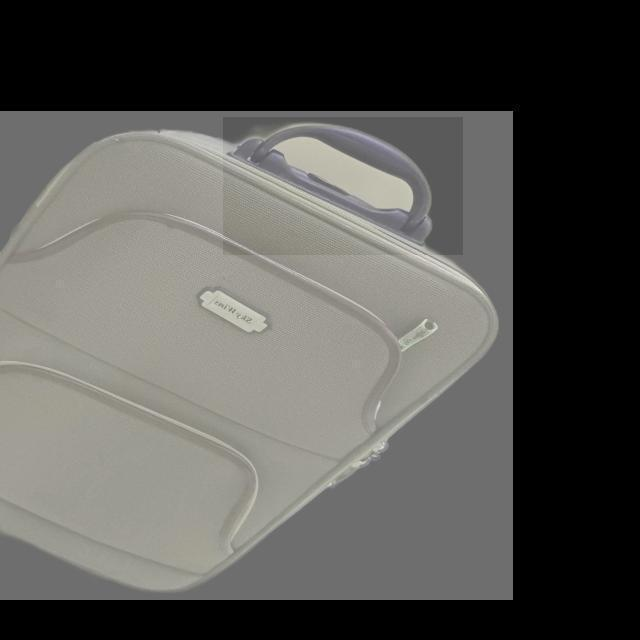Suitcase: (6, 112, 511, 600)
